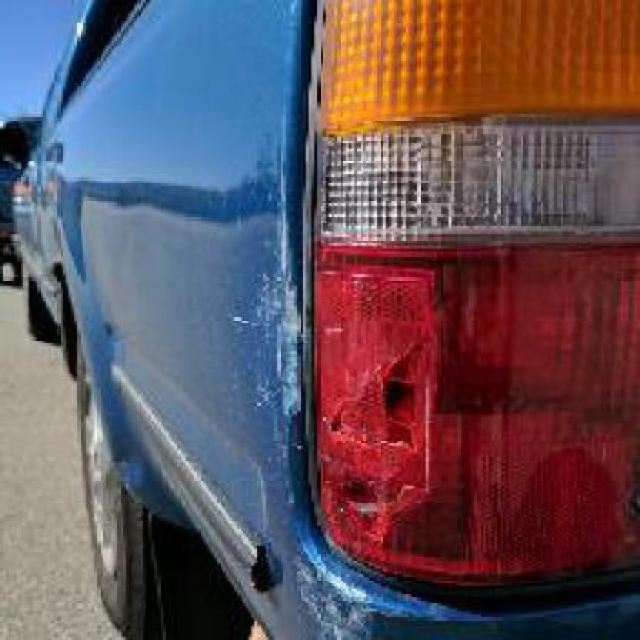damaged-tail-light: (306, 8, 632, 584)
dent-or-scratch: (249, 270, 303, 424), (281, 563, 367, 639)
